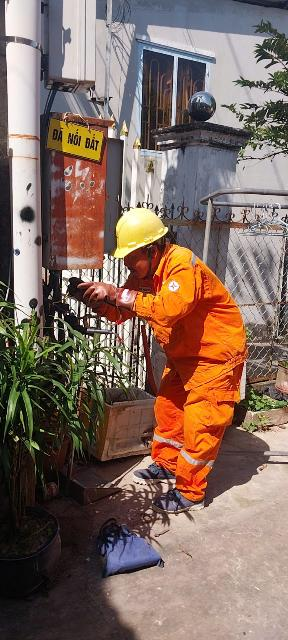gloves: (79, 278, 150, 323), (52, 270, 108, 318)
helmet: (101, 203, 178, 262)
shoes: (143, 488, 223, 521), (125, 459, 183, 484)
